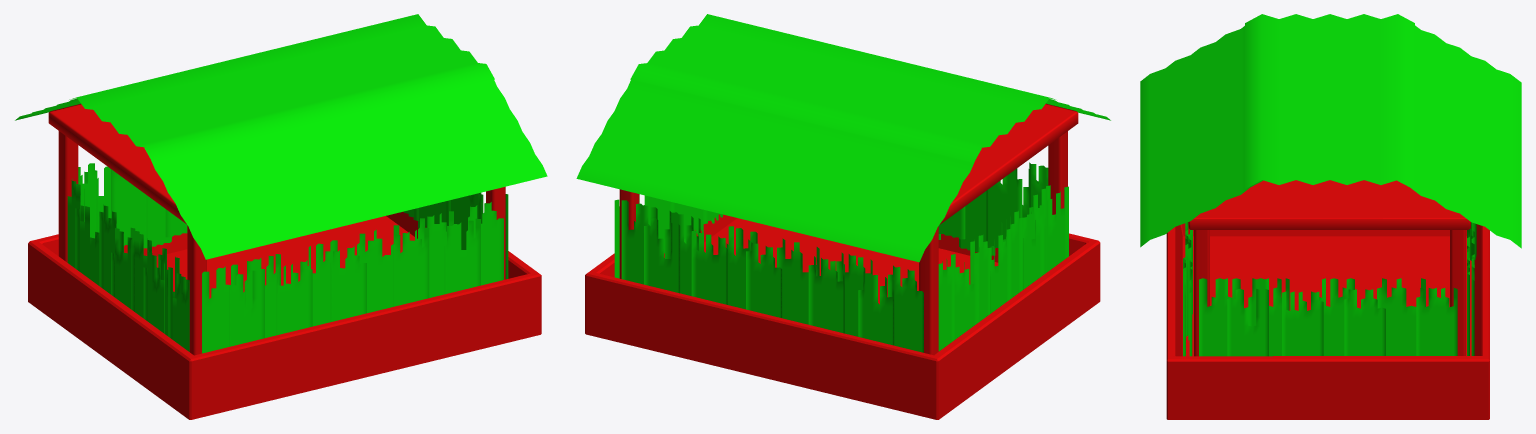
Rendered from Tower_Top.fbx.
The picture shows the model from 3 angles, left to right: view 1: azimuth 30°, elevation 25°; view 2: azimuth 150°, elevation 25°; view 3: azimuth 270°, elevation 25°; orthographic projection.
Visible parts, largest first — view 1: Tower_Top_UV; view 2: Tower_Top_UV; view 3: Tower_Top_UV.
Part boxes in pixels (left/top/right/bottom): Tower_Top_UV: left=15, top=14, right=547, bottom=419; Tower_Top_UV: left=576, top=14, right=1110, bottom=419; Tower_Top_UV: left=1140, top=14, right=1521, bottom=419.
Size of the model in its own units: 770 by 495 by 724.
